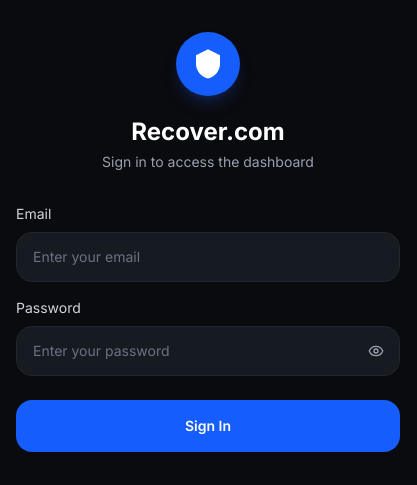
Test case: authentication and navigation flows › shows an error and stays on sign-in when credentials are invalid
Type "wrong@example.com" into the field with placeholder "Enter your email" at (208, 257), box [16,232,400,282]
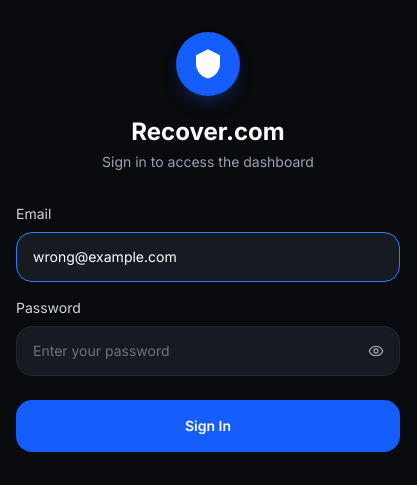
Type "incorrect" into the password field with placeholder "Enter your password" at (208, 351), box [16,326,400,376]
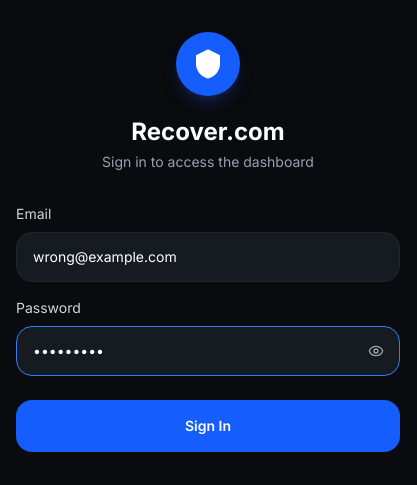
Click the button "Sign In" at (208, 426), box [16,400,400,452]
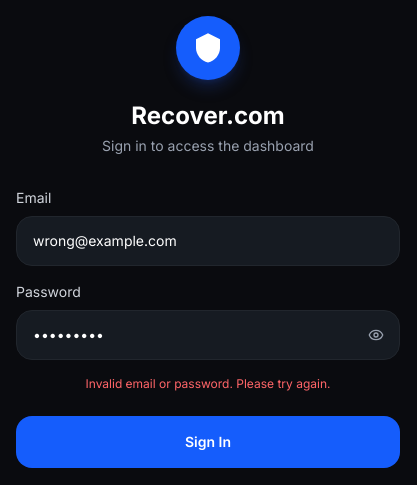
Expected: the button "Sign In" is enabled, [16,416,400,468]
Expected: the text "Invalid email or password. Please try again." is shown, [86,376,330,391]
